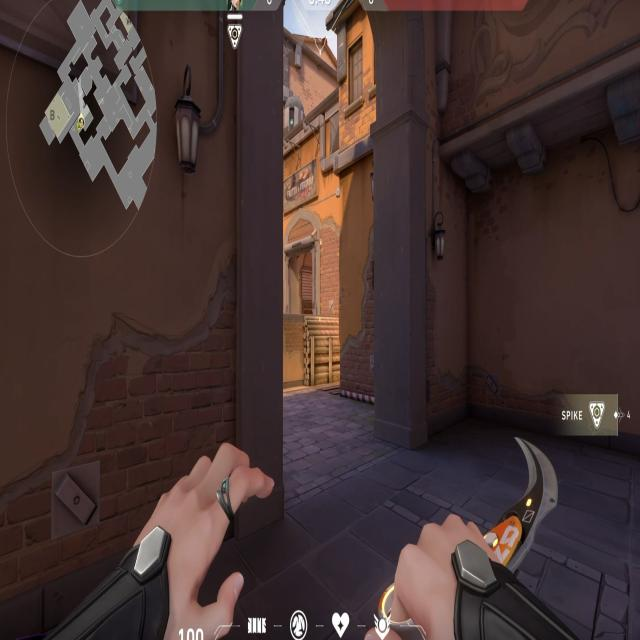B_Cubby: (282, 312, 355, 404)
